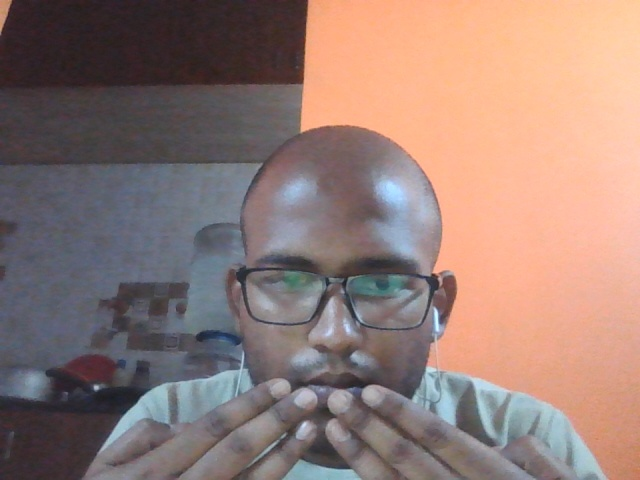thanks: (49, 363, 588, 480)
